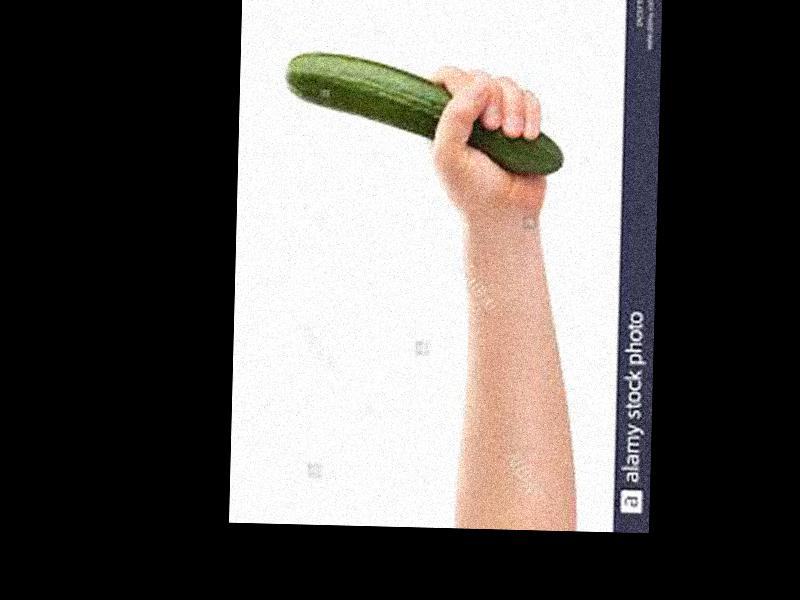Cucumber: (284, 50, 565, 173)
